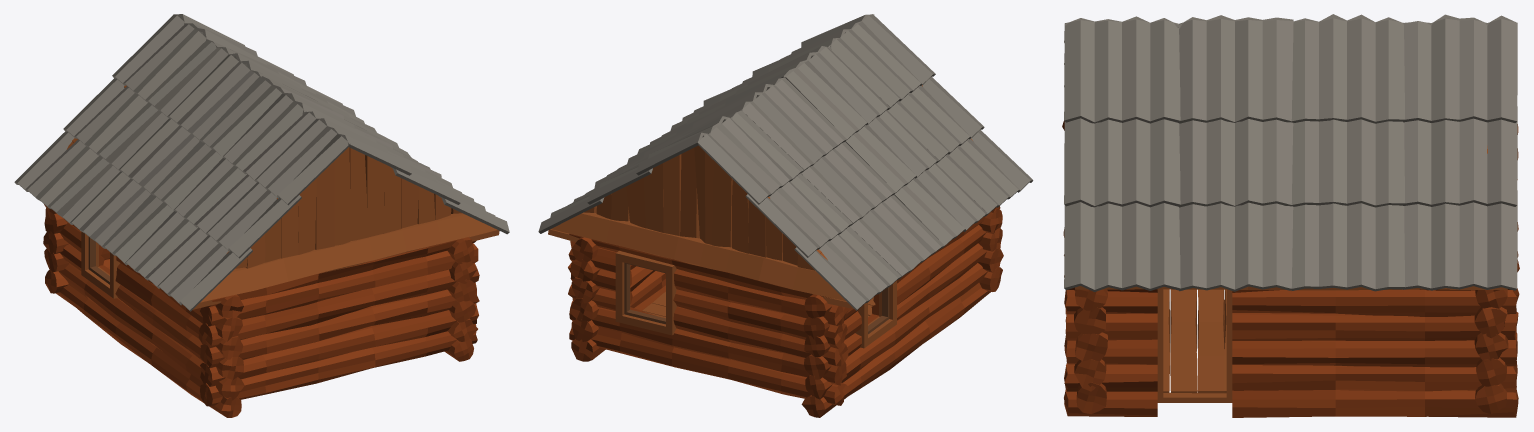
The model's file is будівля 1.fbx.
3 views of the same model, side by side, from view 1: azimuth 30°, elevation 25°; view 2: azimuth 150°, elevation 25°; view 3: azimuth 270°, elevation 25° (orthographic). The views are drawn at different scales.
Parts seen in each view (by area): view 1: будівля 1; view 2: будівля 1; view 3: будівля 1.
Boxes of the visible parts, x1,y1,x2,y2 form: будівля 1: (14,14,509,417); будівля 1: (538,14,1033,417); будівля 1: (1062,14,1519,417).
Size of what is drawn, in the model's own units: 5246 by 3912 by 4939.
